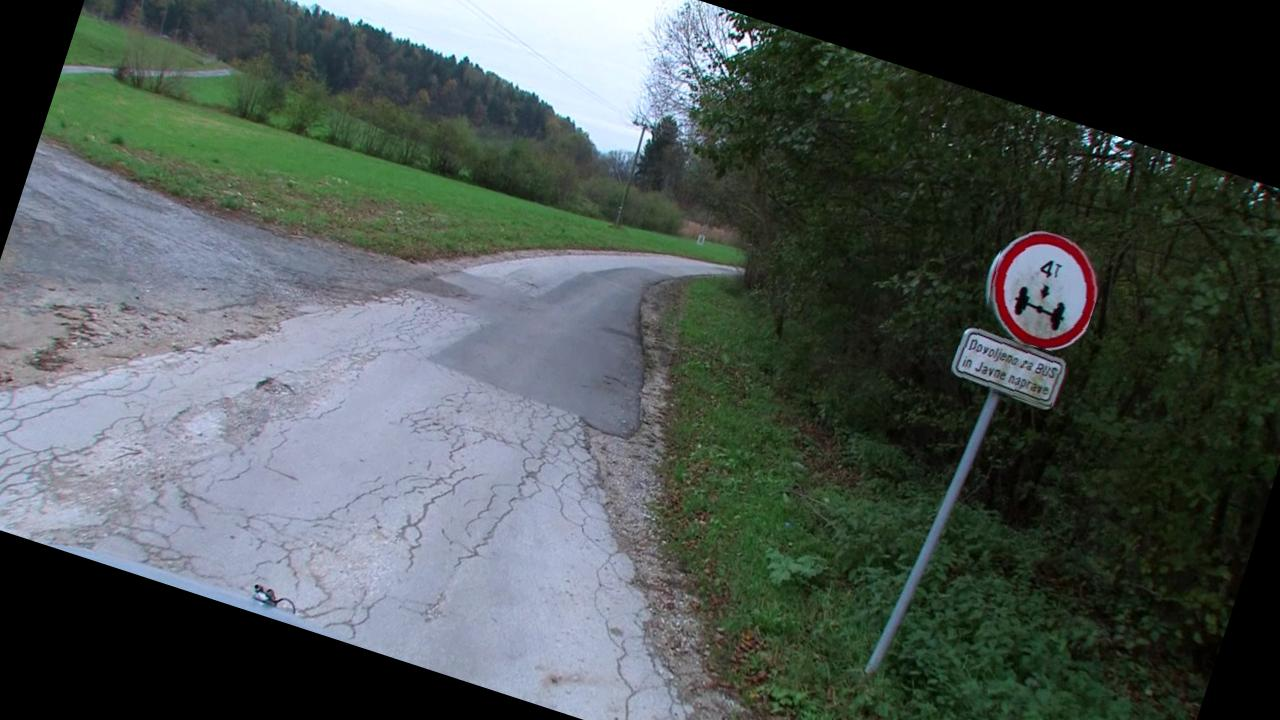Rectangle: (948, 324, 1068, 412)
Round: (972, 220, 1111, 366)
